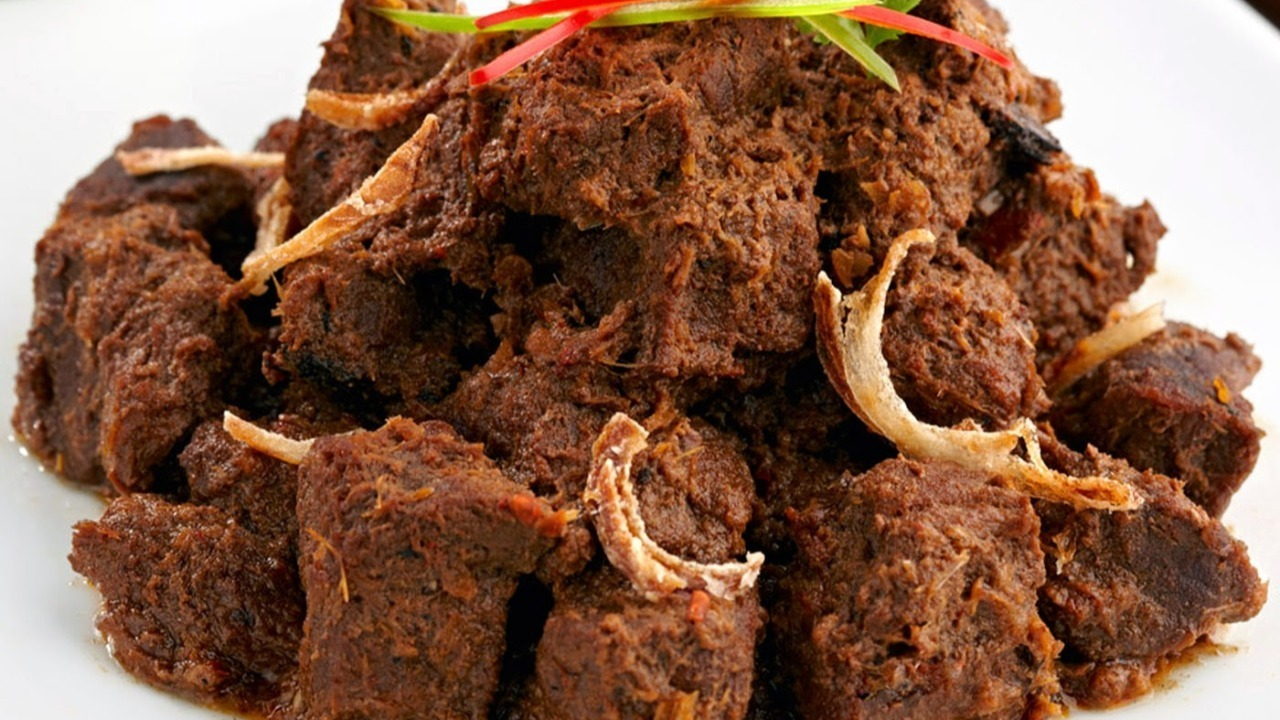daging: (122, 179, 1090, 710)
